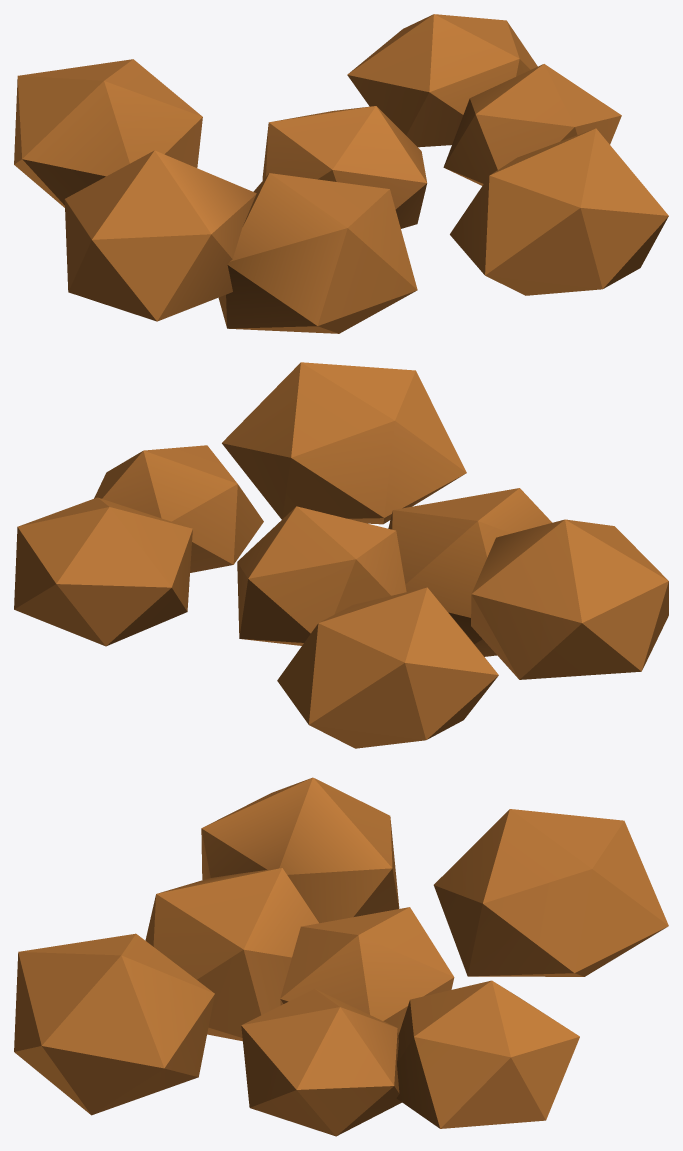
The model's file is forest_clump_broad.glb.
3 views of the same model, one above another, from view 1: azimuth 30°, elevation 25°; view 2: azimuth 150°, elevation 25°; view 3: azimuth 270°, elevation 25° (orthographic). The views are drawn at different scales.
Bounding box in the file's own units: 23.13 × 7.29 × 22.68.
